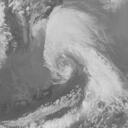cyclone: (42, 34, 94, 85)
